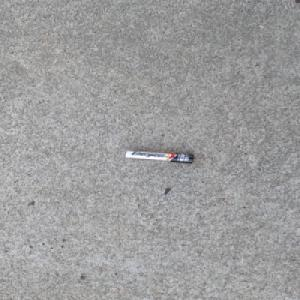Battery: (123, 149, 195, 164)
